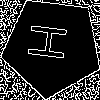H: (27, 22, 77, 64)
